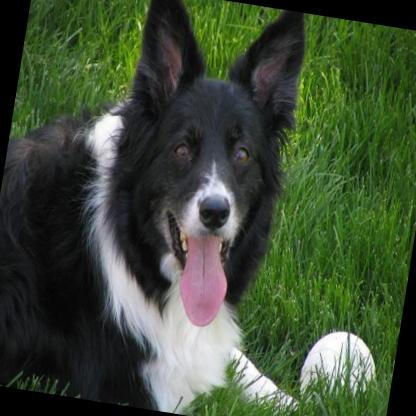collie: (0, 0, 356, 416)
